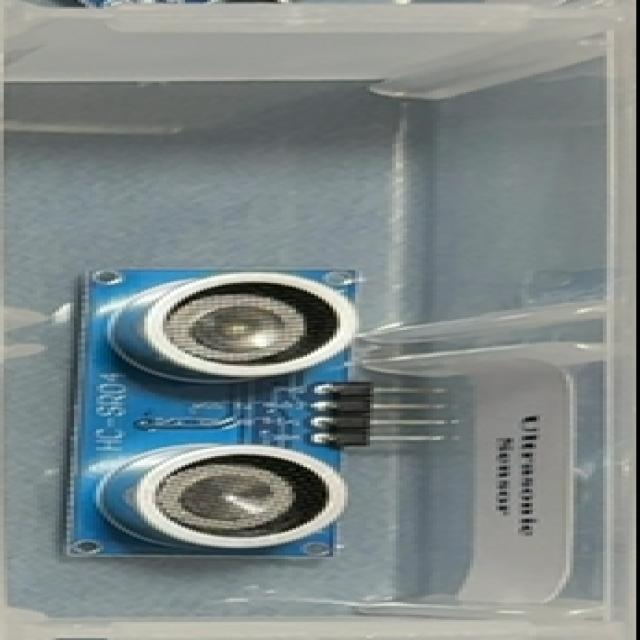Ultrasonic Sensor: (52, 268, 453, 570)
